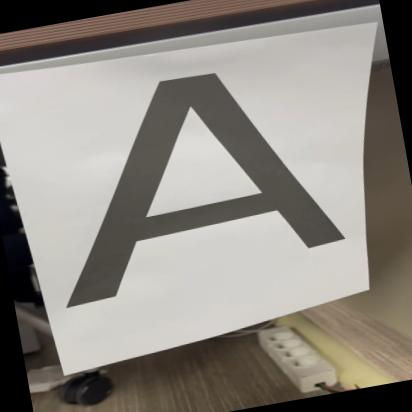seat: (33, 42, 364, 308)
